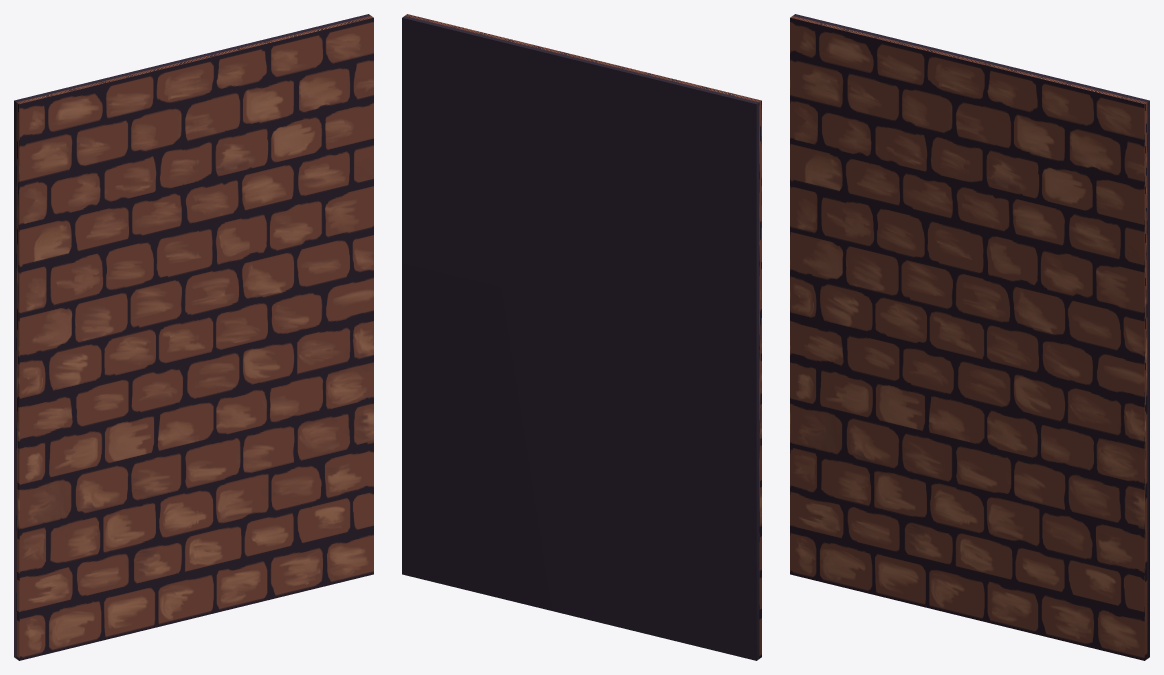
The model's file is Wall_Brickx2.fbx.
The picture shows the model from 3 angles, left to right: view 1: azimuth 30°, elevation 25°; view 2: azimuth 150°, elevation 25°; view 3: azimuth 330°, elevation 25°; orthographic projection.
Visible parts, largest first — view 1: polySurface3; view 2: polySurface3; view 3: polySurface3.
Part boxes in pixels (x1,y1,x2,y2): polySurface3: [14, 14, 373, 660]; polySurface3: [402, 14, 761, 660]; polySurface3: [790, 14, 1149, 660].
Size of the model in its own units: 2 by 3 by 0.05.
2 materials, 2 textured.
